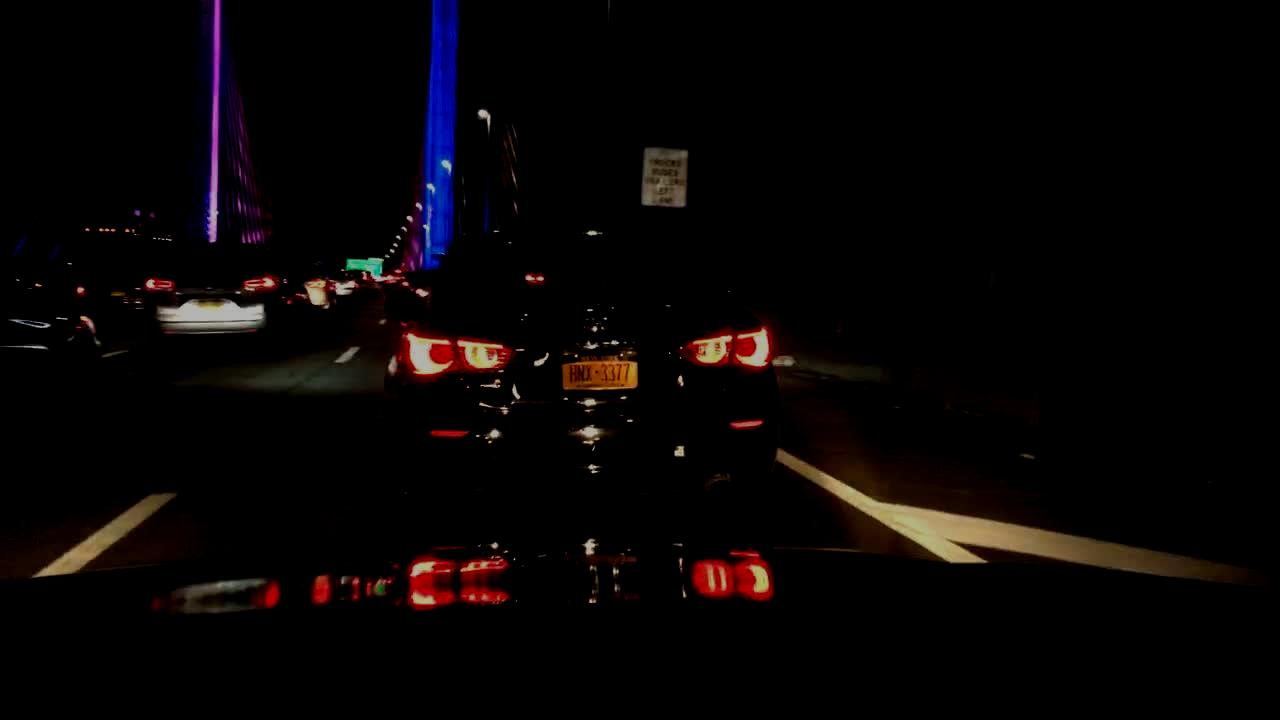Infiniti: (575, 307, 620, 339)
